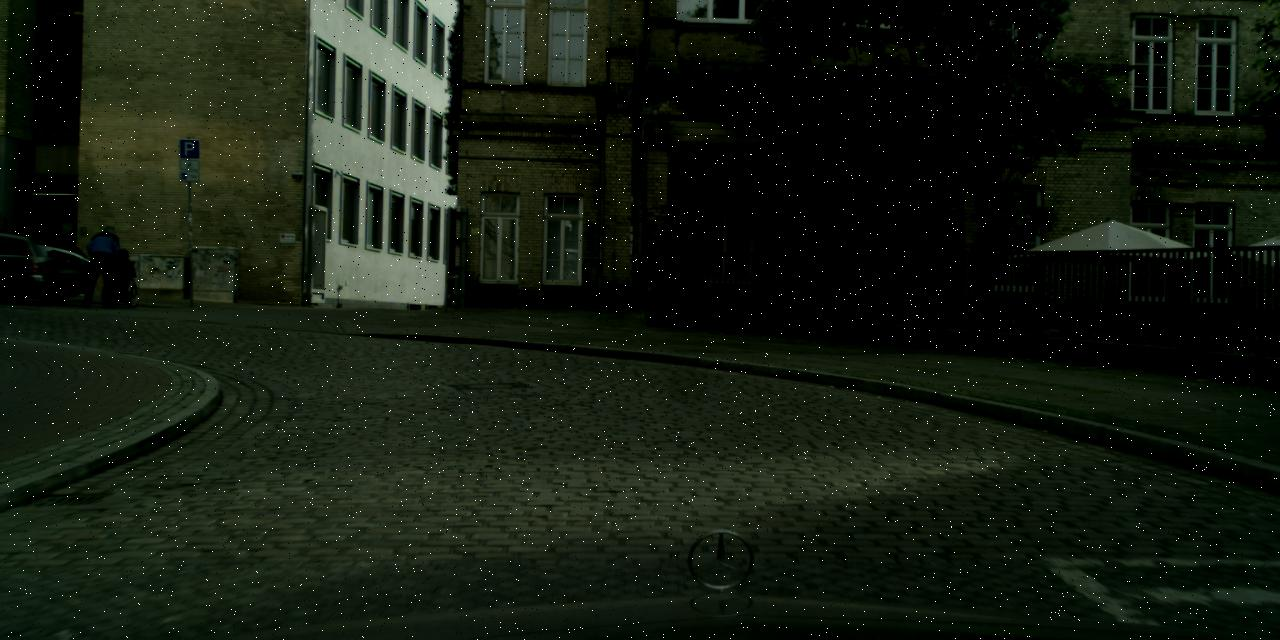ped: (86, 225, 120, 307)
